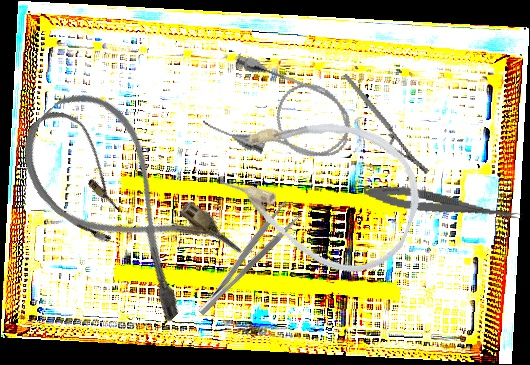Cannula: (0, 74, 249, 329), (205, 86, 438, 291), (3, 99, 151, 256), (199, 49, 363, 181)
Dressing Forceps: (187, 199, 303, 319)
Micro Scissor: (362, 180, 525, 226)
Needle Holder: (342, 58, 431, 189)
